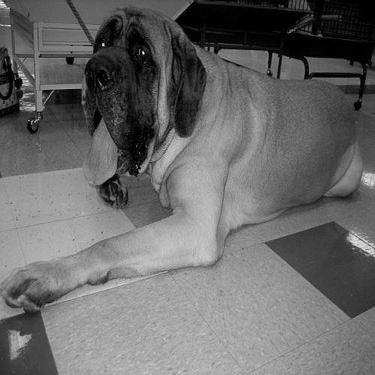dog: (1, 10, 372, 323)
